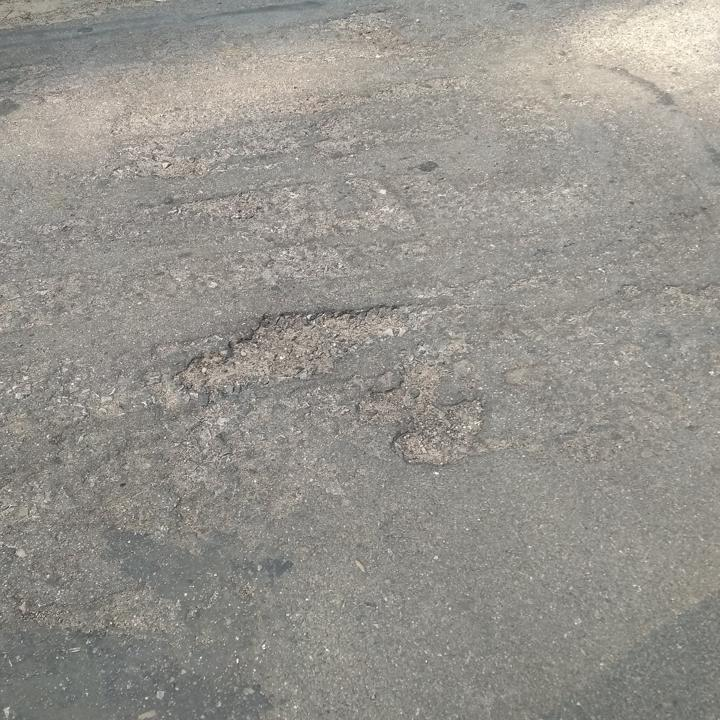pothole: (173, 301, 429, 396), (389, 396, 489, 468)
